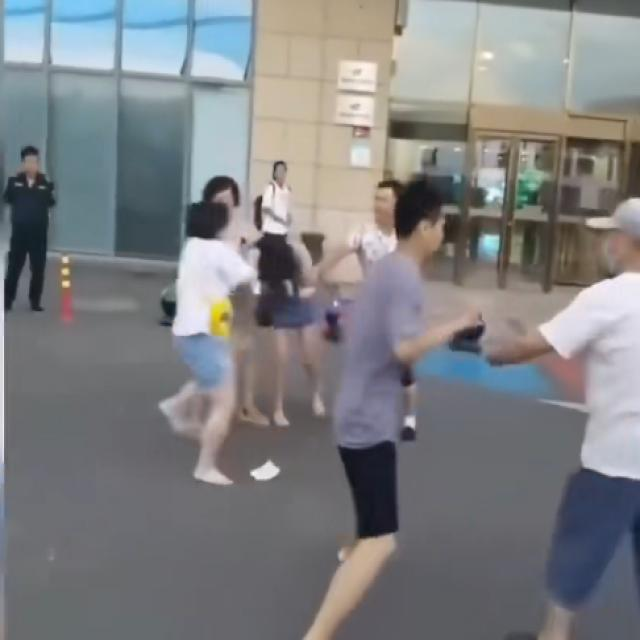fight: (168, 177, 320, 404)
nofight: (322, 191, 476, 631), (558, 191, 640, 640), (5, 141, 60, 322), (264, 159, 298, 230)
